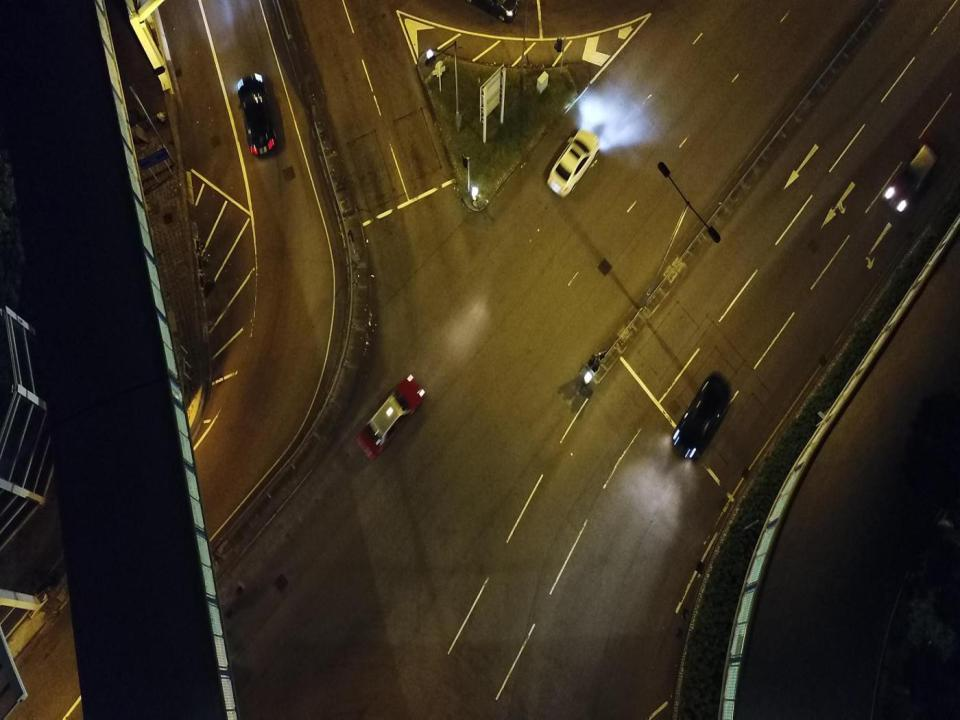car: (355, 372, 426, 462), (672, 373, 731, 462), (885, 142, 938, 214), (546, 129, 598, 199), (236, 72, 278, 158)
